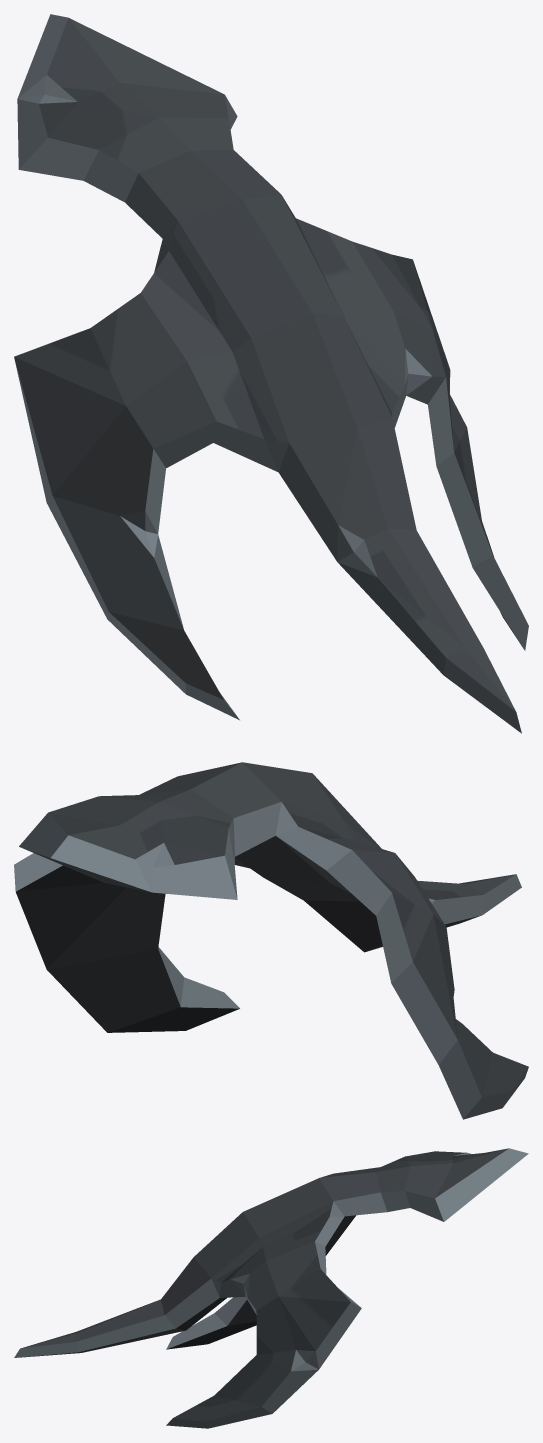
Rendered from SM_Chr_Attach_Helmet_Dark_Medium_01.fbx.
The picture shows the model from 3 angles, top to bottom: view 1: azimuth 30°, elevation 25°; view 2: azimuth 150°, elevation 25°; view 3: azimuth 270°, elevation 25°; orthographic projection. The views are drawn at different scales.
Visible parts, largest first — view 1: SM_Chr_Attach_Helmet_Dark_Medium_01; view 2: SM_Chr_Attach_Helmet_Dark_Medium_01; view 3: SM_Chr_Attach_Helmet_Dark_Medium_01.
Boxes of the visible parts, <box> form: SM_Chr_Attach_Helmet_Dark_Medium_01: <box>14,14,528,733</box>; SM_Chr_Attach_Helmet_Dark_Medium_01: <box>14,762,528,1119</box>; SM_Chr_Attach_Helmet_Dark_Medium_01: <box>14,1148,528,1428</box>.
Bounding box in the file's own units: 20.29 × 20.86 × 40.7.
